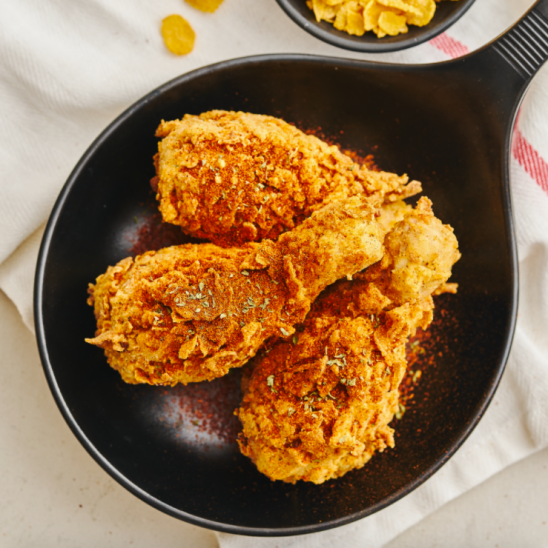Ayam: (74, 199, 390, 385), (259, 221, 472, 486), (156, 105, 379, 230)
